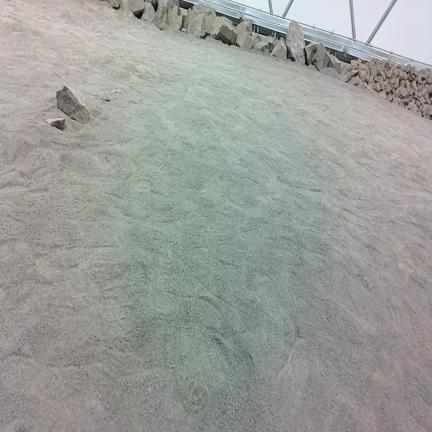Rock: (57, 85, 89, 123), (286, 20, 305, 64), (211, 17, 236, 44), (235, 22, 254, 50), (313, 43, 329, 70), (166, 3, 182, 30), (188, 15, 205, 38), (121, 0, 144, 15), (271, 38, 287, 59), (142, 2, 156, 25), (157, 0, 168, 29), (193, 4, 215, 16), (204, 14, 216, 35), (305, 43, 317, 64), (328, 55, 341, 74), (183, 9, 196, 28), (263, 36, 277, 52), (47, 118, 65, 130), (321, 67, 339, 78), (255, 41, 269, 54), (243, 18, 252, 35), (347, 69, 358, 80), (252, 34, 261, 46), (108, 0, 120, 9), (422, 104, 431, 116), (421, 85, 431, 95), (378, 76, 385, 90), (359, 69, 367, 81), (393, 77, 400, 90), (101, 92, 110, 101), (371, 63, 376, 79), (392, 68, 400, 78), (400, 87, 407, 97), (411, 80, 417, 91), (386, 69, 393, 78), (408, 100, 415, 109), (307, 65, 317, 71), (339, 75, 347, 82), (401, 71, 407, 79), (387, 92, 392, 101), (422, 74, 427, 81), (420, 97, 425, 103), (351, 60, 356, 65)
